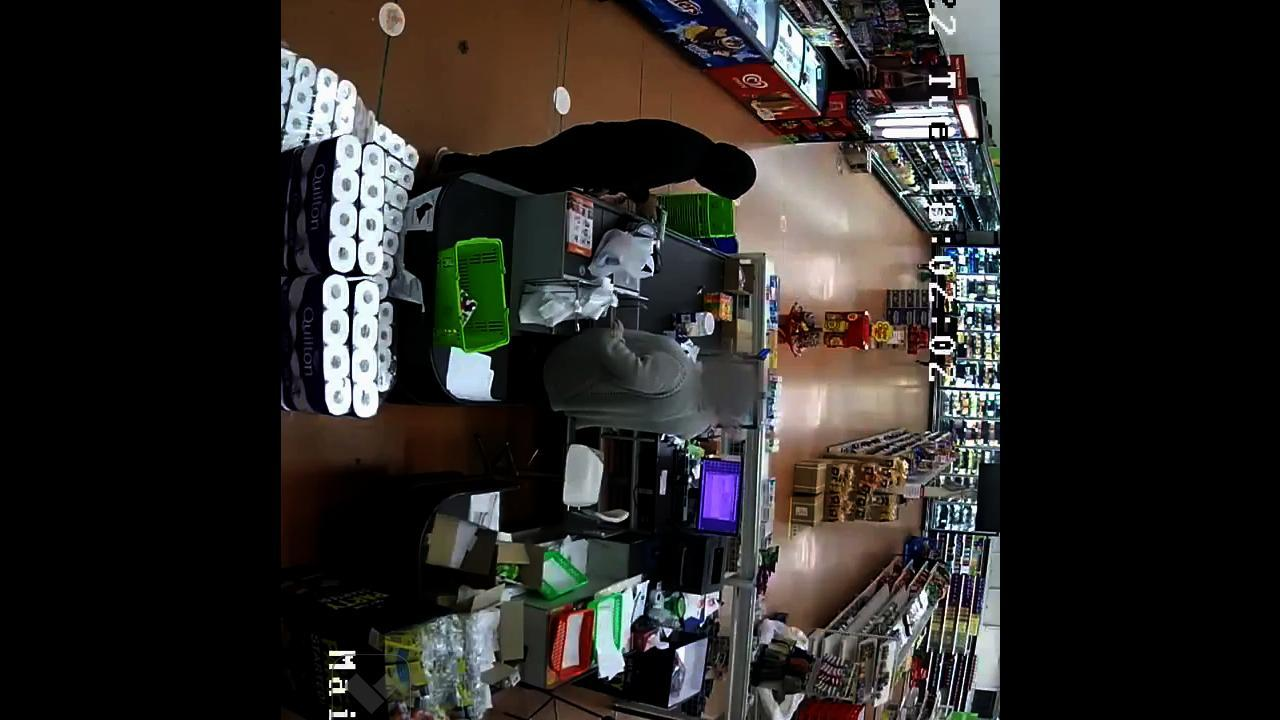gun: (634, 202, 676, 248)
